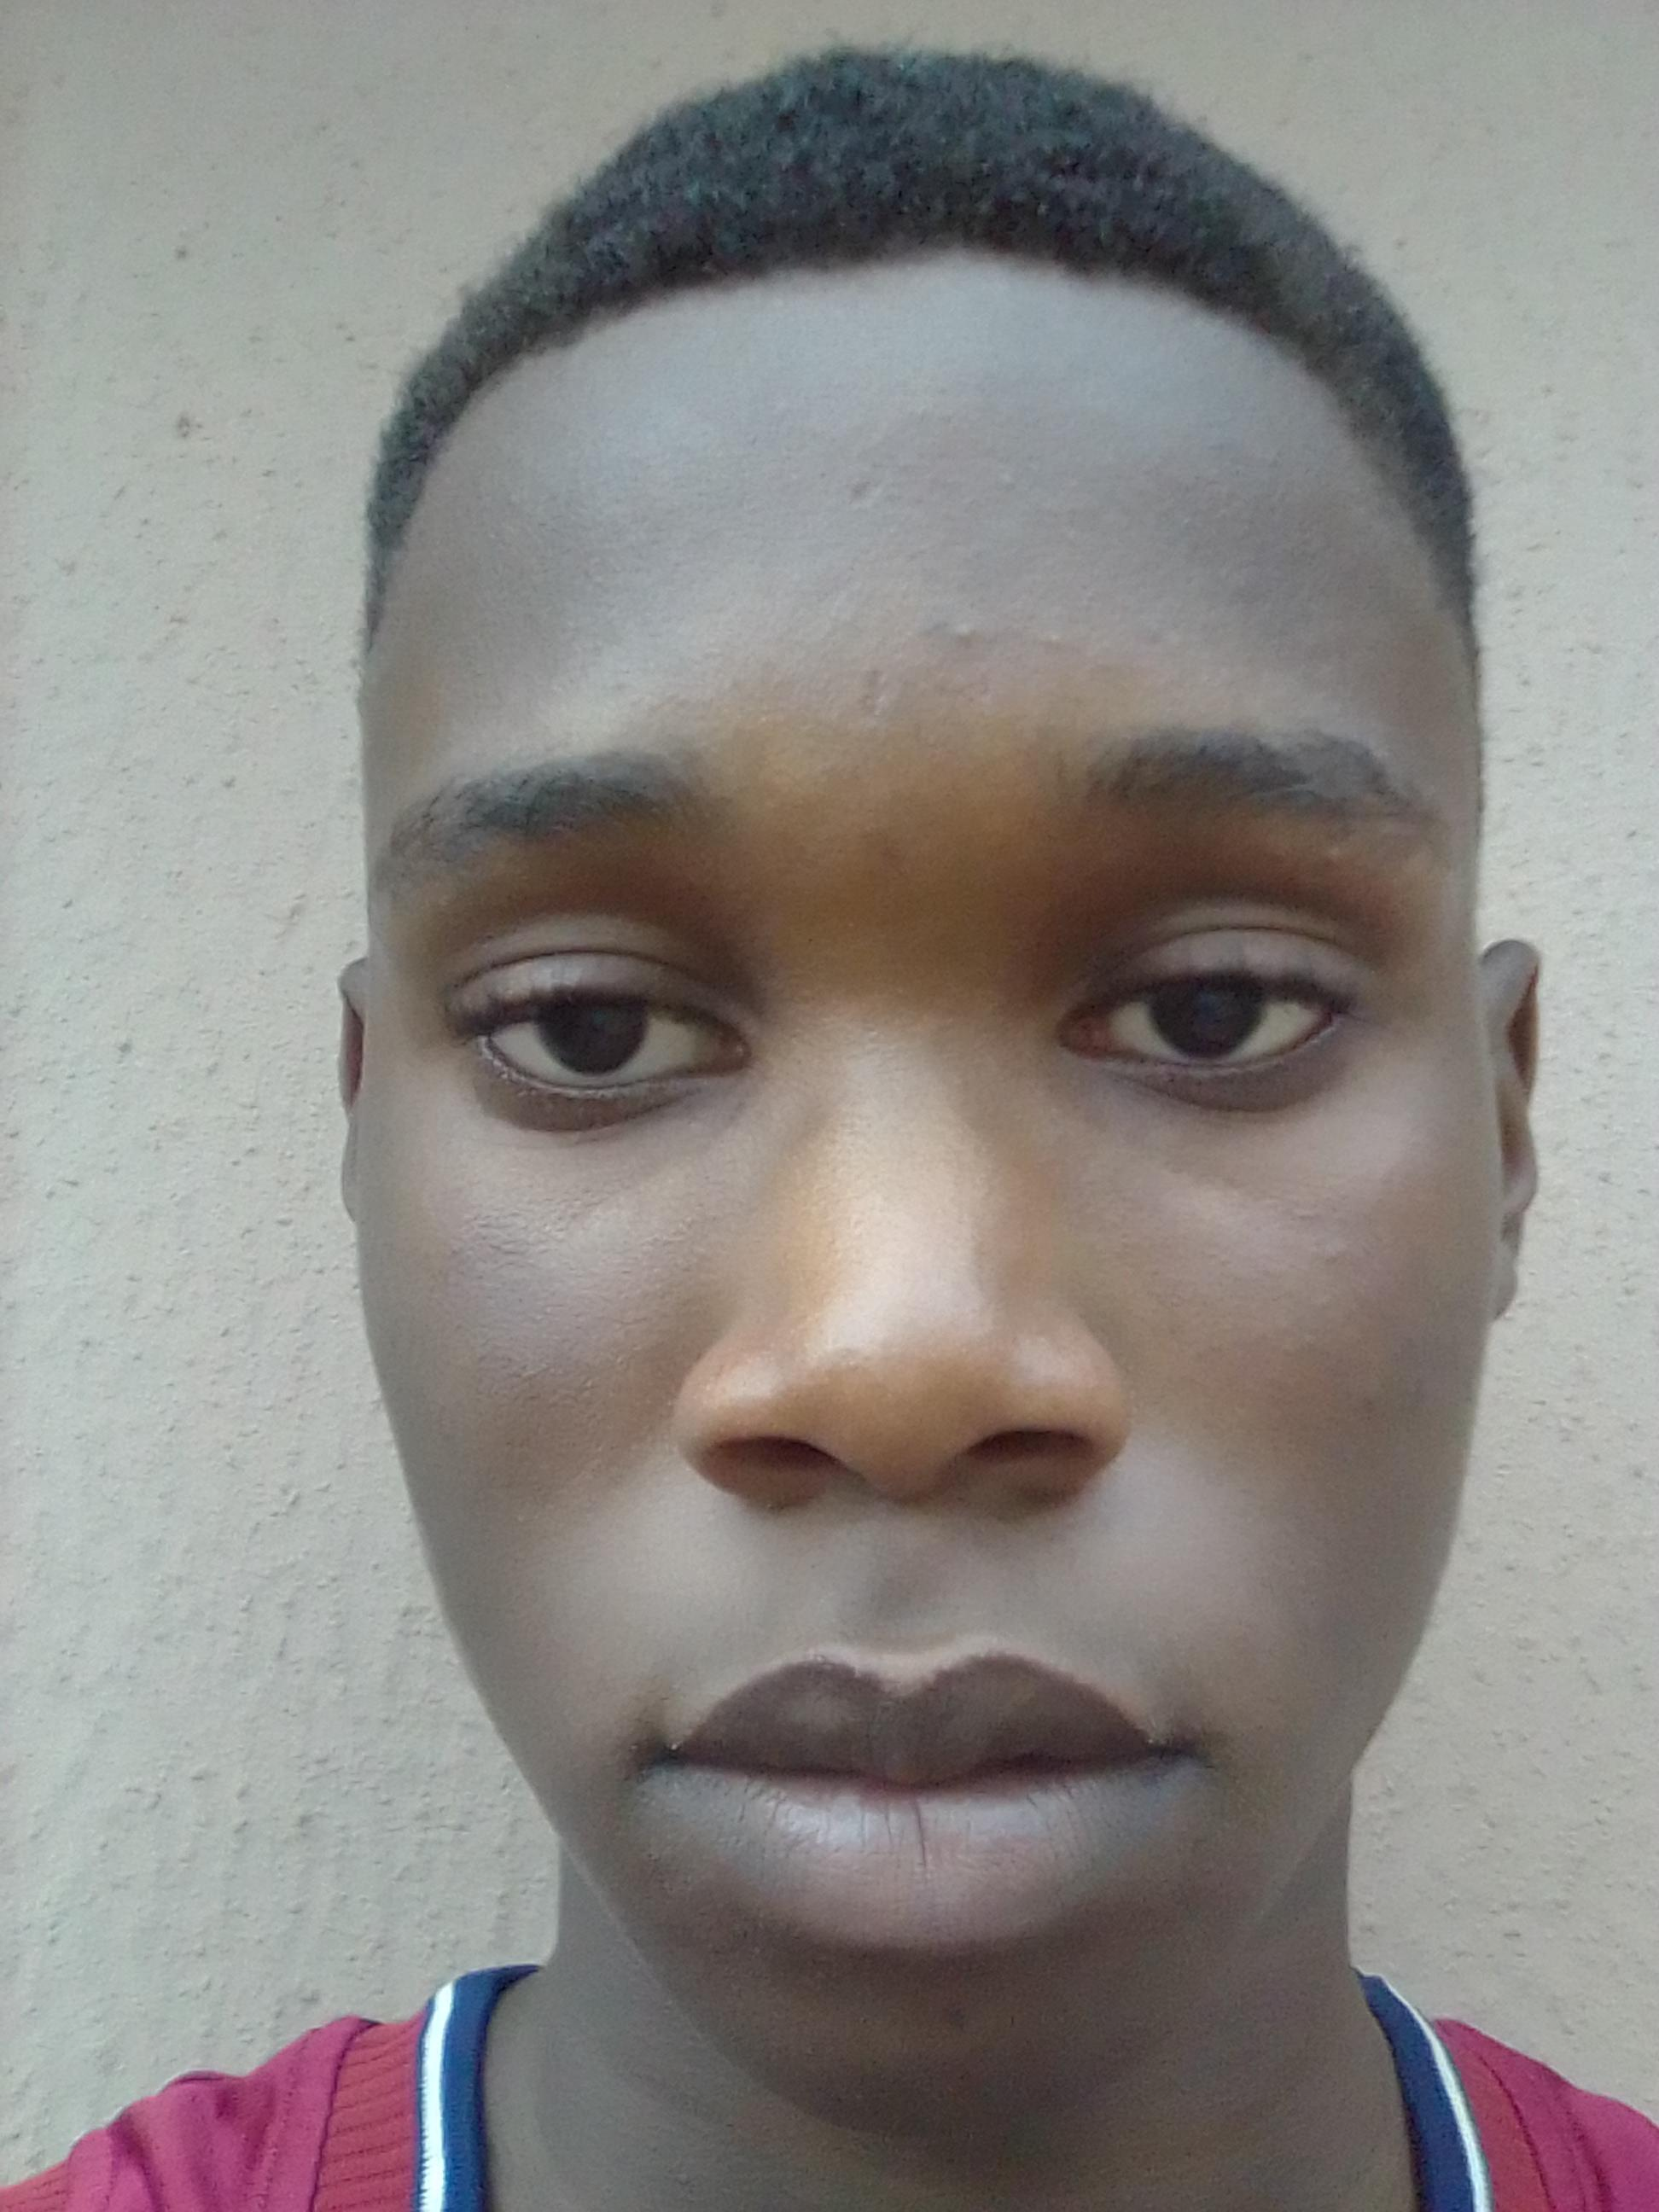Acne: (939, 599, 999, 653), (1303, 1230, 1368, 1270), (1351, 1376, 1396, 1421)
